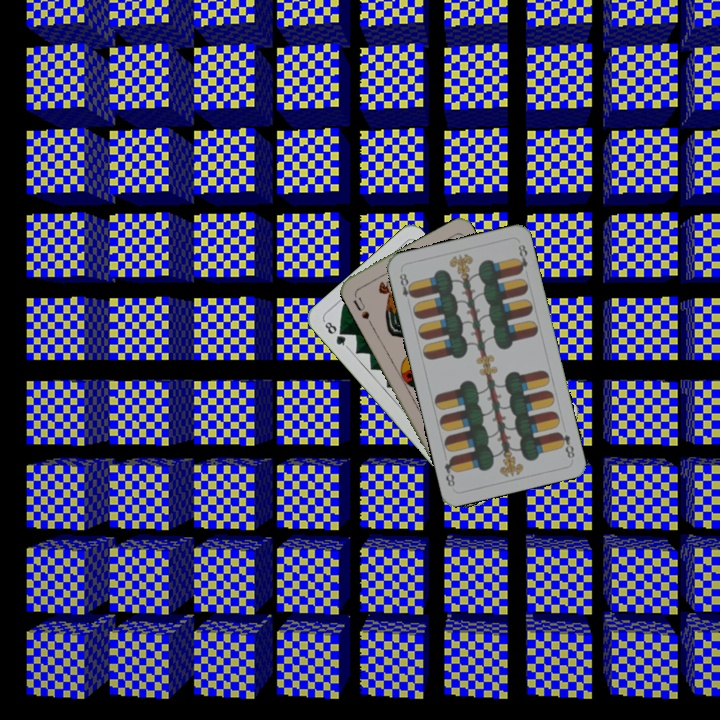E8: (554, 428, 577, 461), (395, 269, 417, 301)
G8: (320, 317, 350, 350)
SU: (349, 289, 372, 322)
